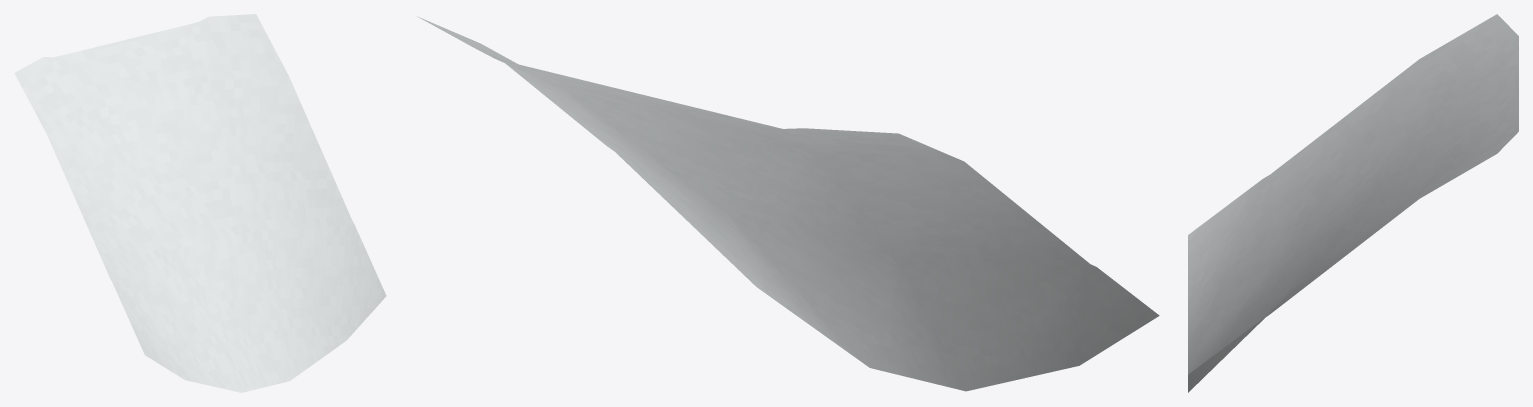
The model's file is spheroid_medium_0_2_1.obj.
The picture shows the model from 3 angles, left to right: view 1: azimuth 30°, elevation 25°; view 2: azimuth 150°, elevation 25°; view 3: azimuth 270°, elevation 25°; orthographic projection. The views are drawn at different scales.
Visible parts, largest first — view 1: spheroid_medium_0_2_1; view 2: spheroid_medium_0_2_1; view 3: spheroid_medium_0_2_1.
Part boxes in pixels (x1,y1,x2,y2): spheroid_medium_0_2_1: [14, 14, 386, 392]; spheroid_medium_0_2_1: [417, 16, 1159, 391]; spheroid_medium_0_2_1: [1188, 14, 1518, 392].
Bounding box in the file's own units: 3 × 2.94 × 3.
